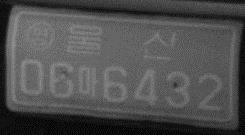0: (18, 57, 47, 96)
2: (196, 71, 225, 112)
3: (163, 70, 191, 110)
4: (132, 68, 160, 108)
6: (47, 60, 75, 100), (101, 63, 128, 104)
마: (75, 63, 100, 99)
영: (23, 20, 57, 55)
울산_D: (62, 22, 182, 63)
